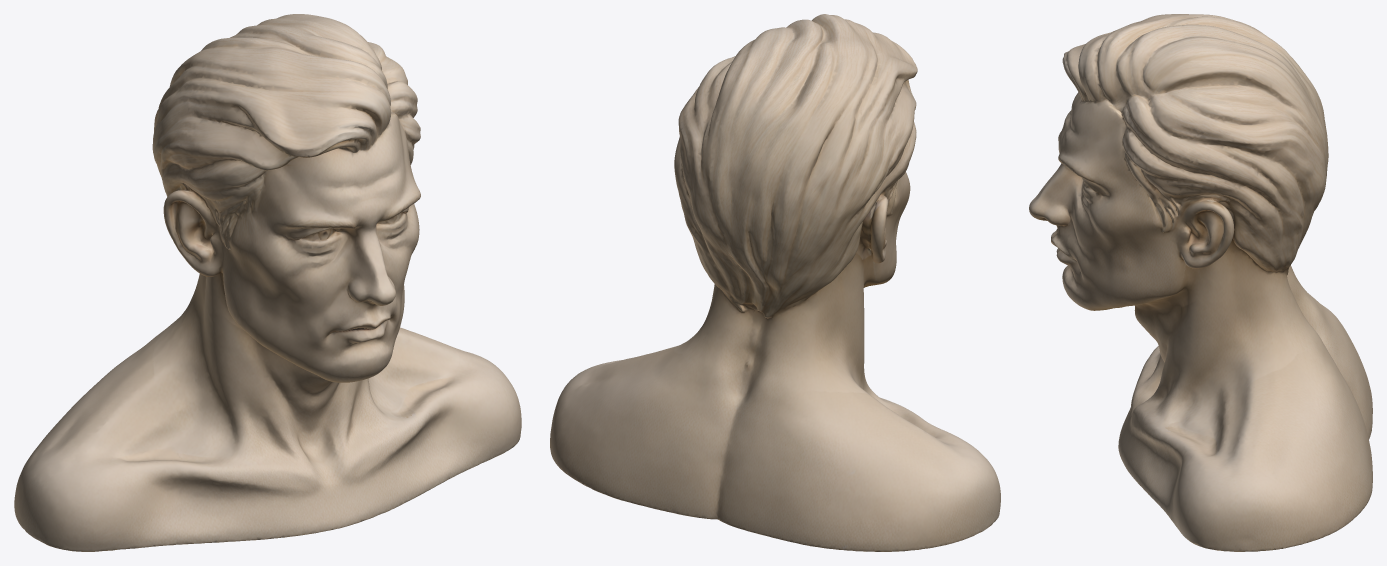
File: varco-source.glb
The picture shows the model from 3 angles, left to right: view 1: azimuth 30°, elevation 25°; view 2: azimuth 150°, elevation 25°; view 3: azimuth 270°, elevation 25°; orthographic projection. The views are drawn at different scales.
Parts seen in each view (by area): view 1: texture_mapping; view 2: texture_mapping; view 3: texture_mapping.
Part boxes in pixels (x1=…): texture_mapping: x1=14, y1=14, x2=521, y2=551; texture_mapping: x1=550, y1=14, x2=1000, y2=551; texture_mapping: x1=1029, y1=14, x2=1372, y2=551.
Size of the model in its own units: 0.9999 by 0.9414 by 0.6949.
Materials: 1 (1 with a texture image).
